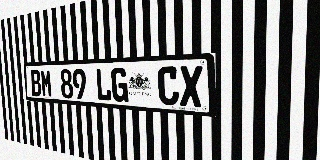8: (60, 69, 74, 99)
9: (72, 69, 87, 100)
B: (30, 70, 42, 97)
C: (157, 66, 179, 106)
G: (111, 67, 128, 102)
L: (95, 68, 112, 101)
M: (40, 69, 53, 97)
X: (179, 66, 203, 107)
